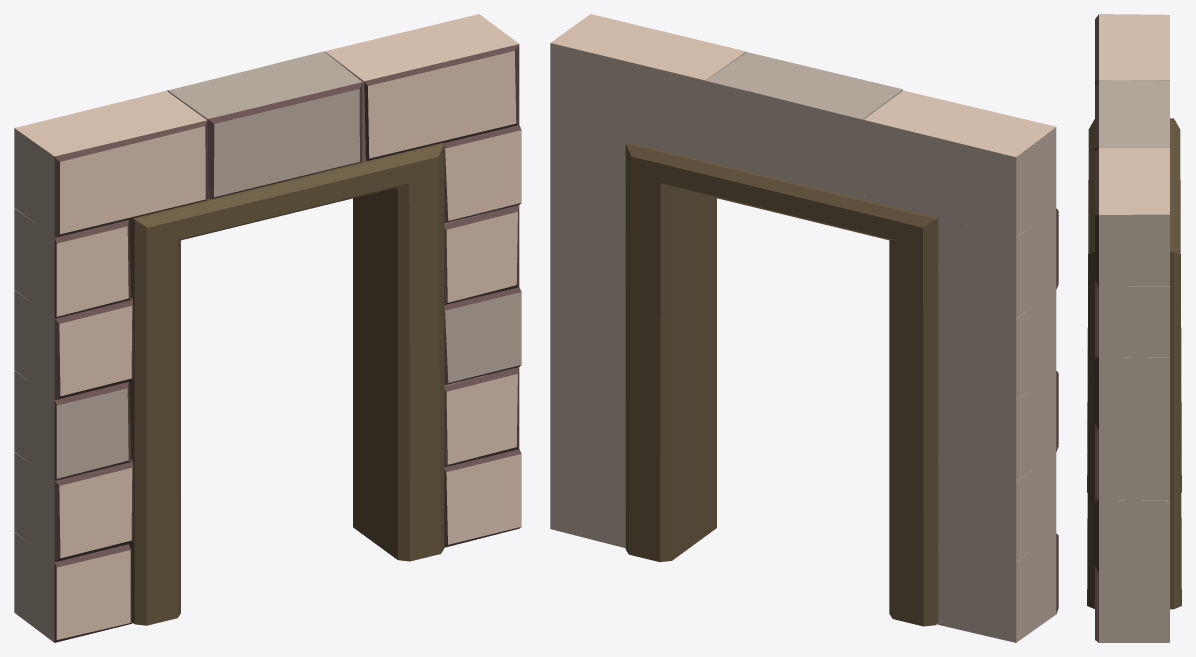
File: greek_wall_1_door_single_sided.fbx
3 views of the same model, side by side, from view 1: azimuth 30°, elevation 25°; view 2: azimuth 150°, elevation 25°; view 3: azimuth 270°, elevation 25° (orthographic). The views are drawn at different scales.
Parts seen in each view (by area): view 1: Cube.065; view 2: Cube.065; view 3: Cube.065.
Part boxes in pixels (x1=…): Cube.065: x1=14, y1=14, x2=521, y2=642; Cube.065: x1=550, y1=14, x2=1058, y2=642; Cube.065: x1=1087, y1=14, x2=1181, y2=642.
Size of the model in its own units: 300 by 300 by 60.
